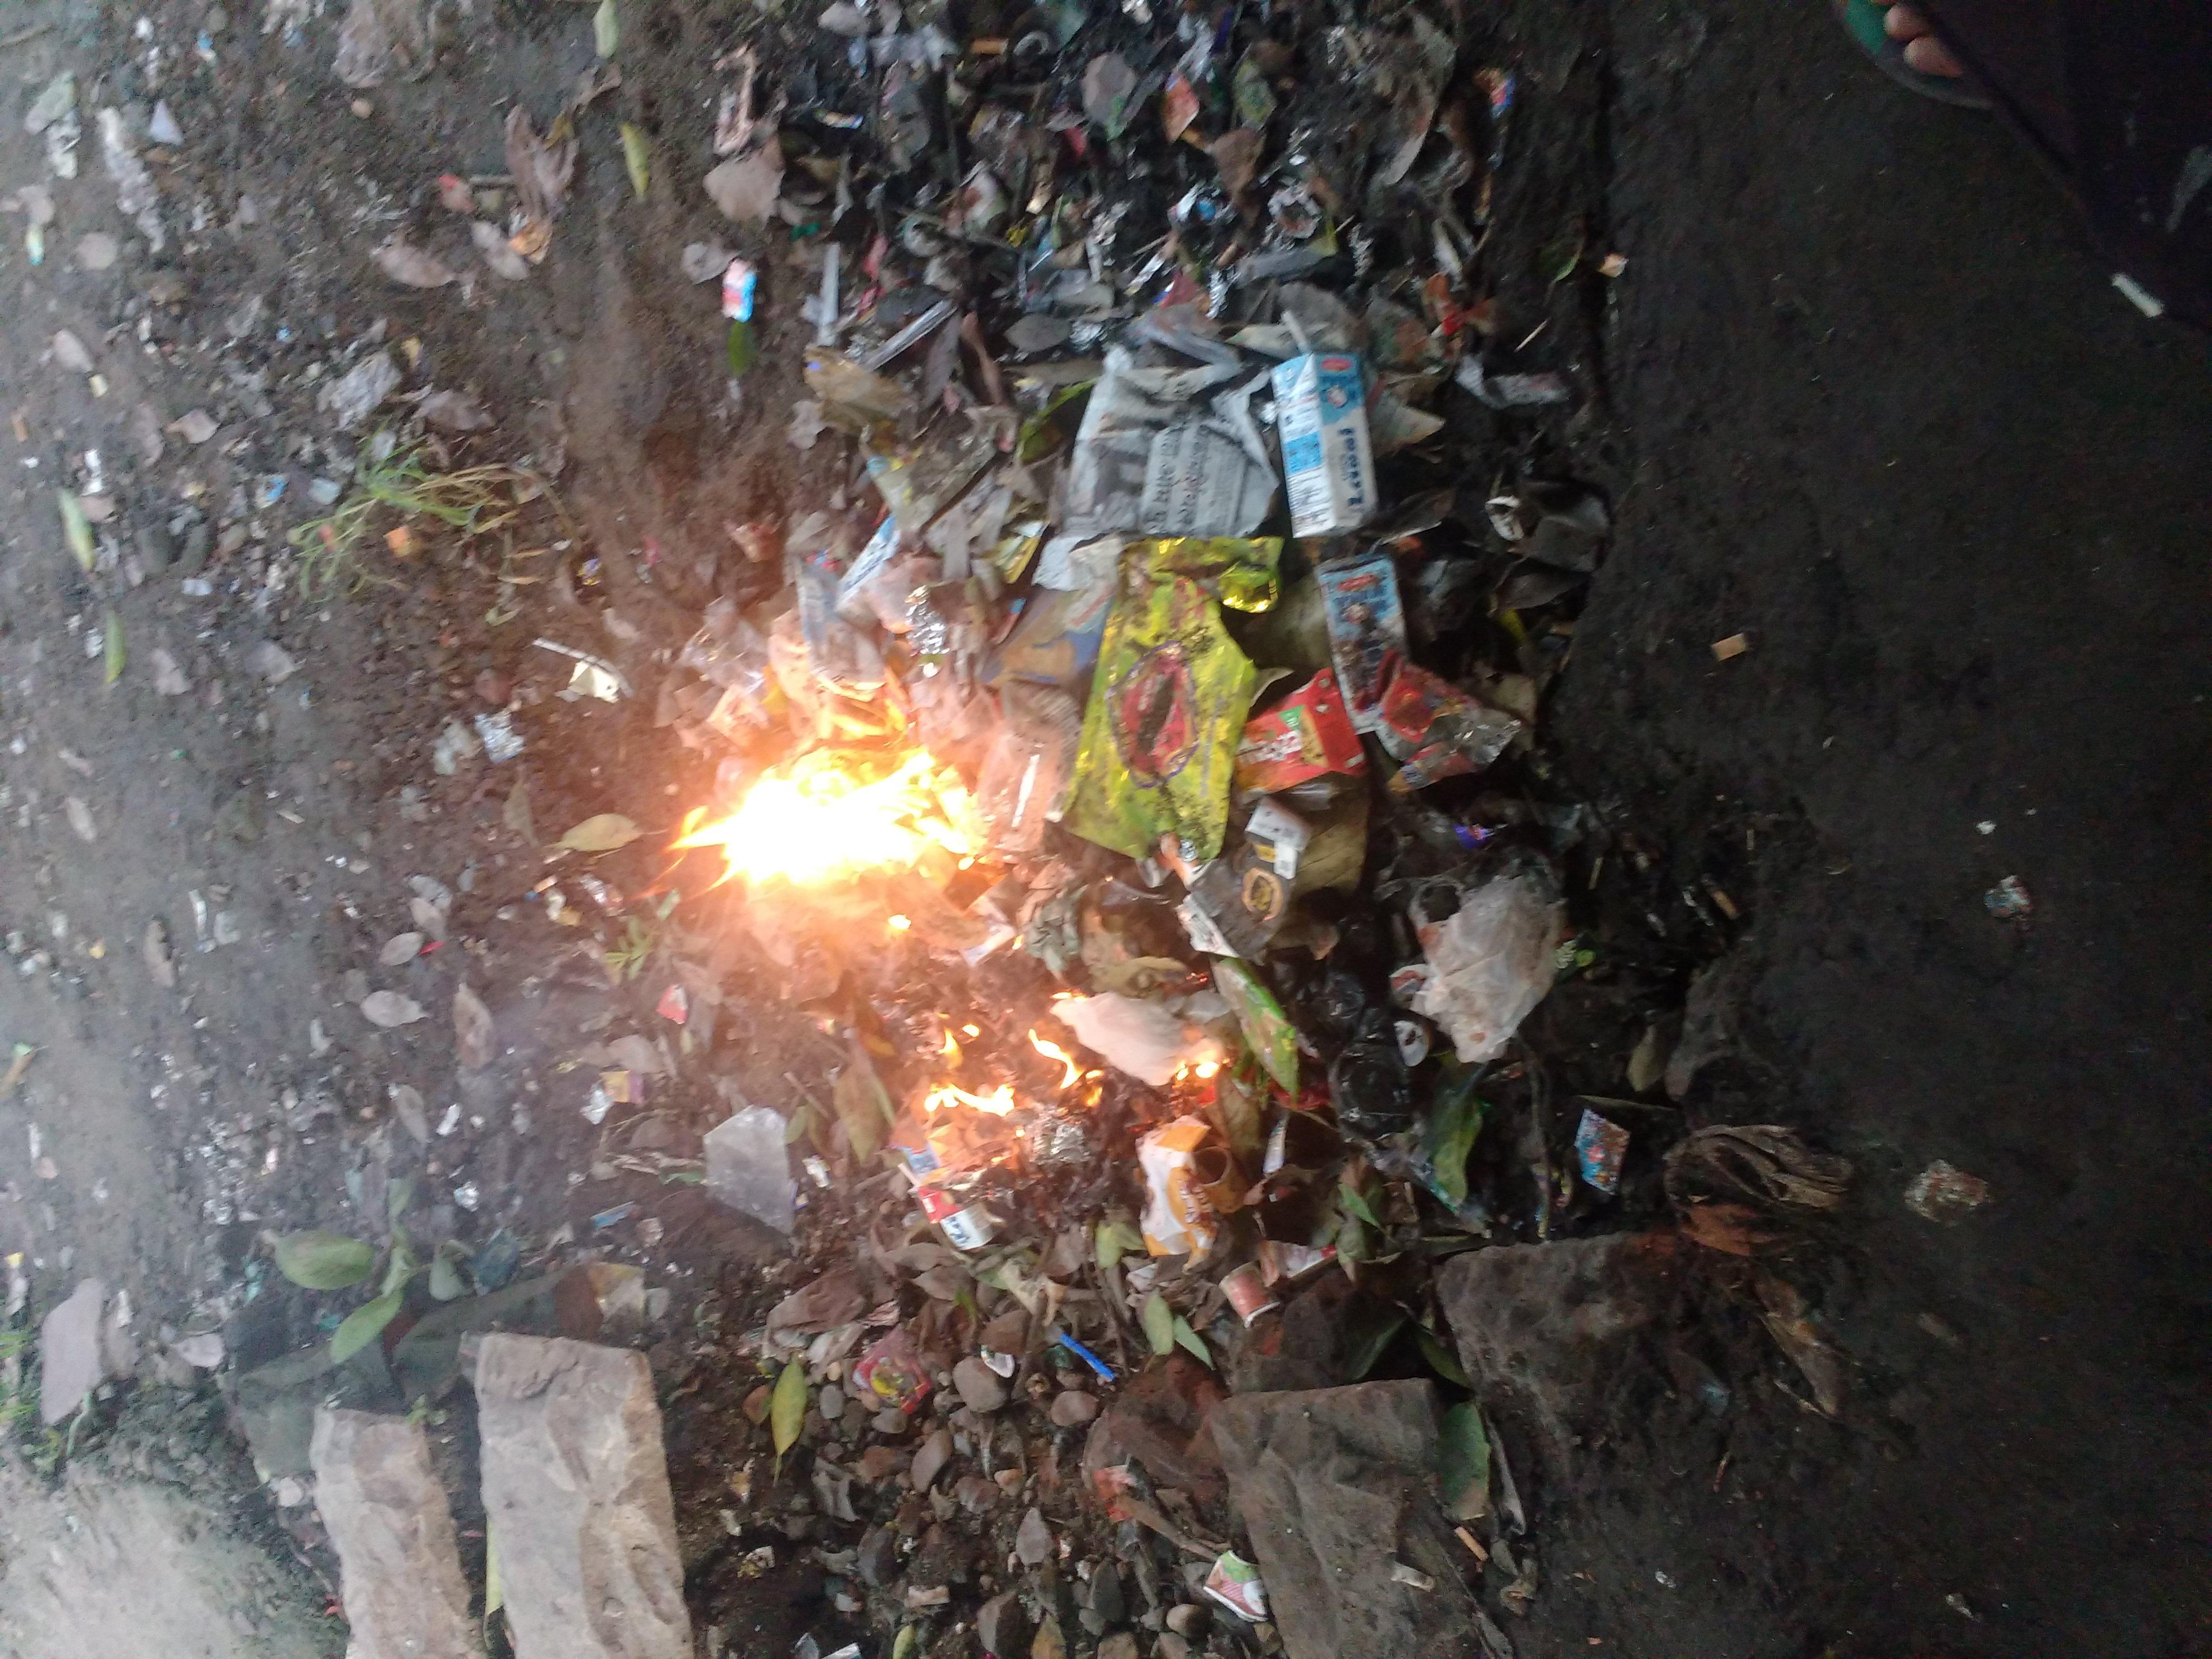fire: (972, 491, 1336, 748)
